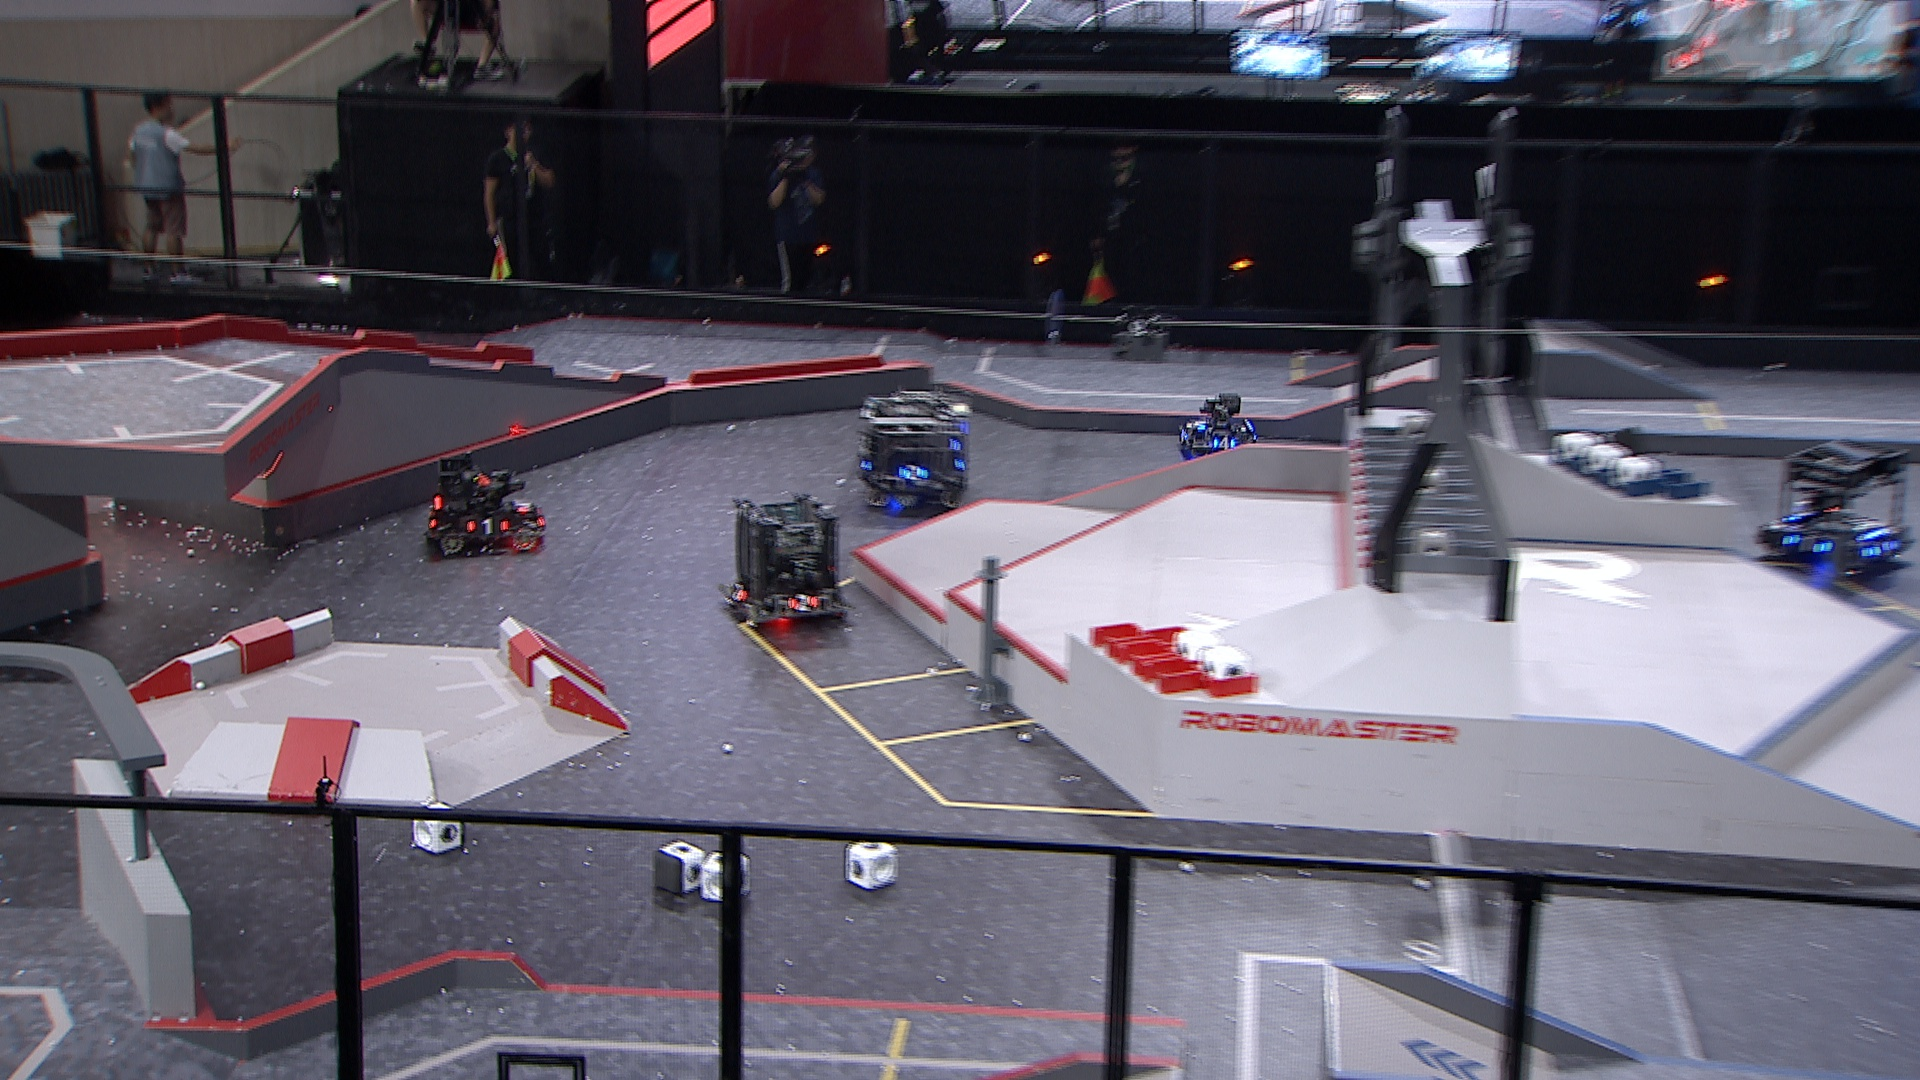armor: (1780, 534, 1832, 559), (467, 516, 513, 535), (1865, 541, 1899, 560), (897, 463, 928, 484), (785, 593, 818, 613), (513, 498, 534, 518), (1211, 436, 1237, 452), (731, 583, 749, 603), (1191, 418, 1207, 433), (1176, 429, 1188, 446)
car: (1753, 440, 1916, 579), (717, 491, 852, 636), (856, 386, 981, 514), (419, 451, 551, 559), (1168, 390, 1259, 462)
